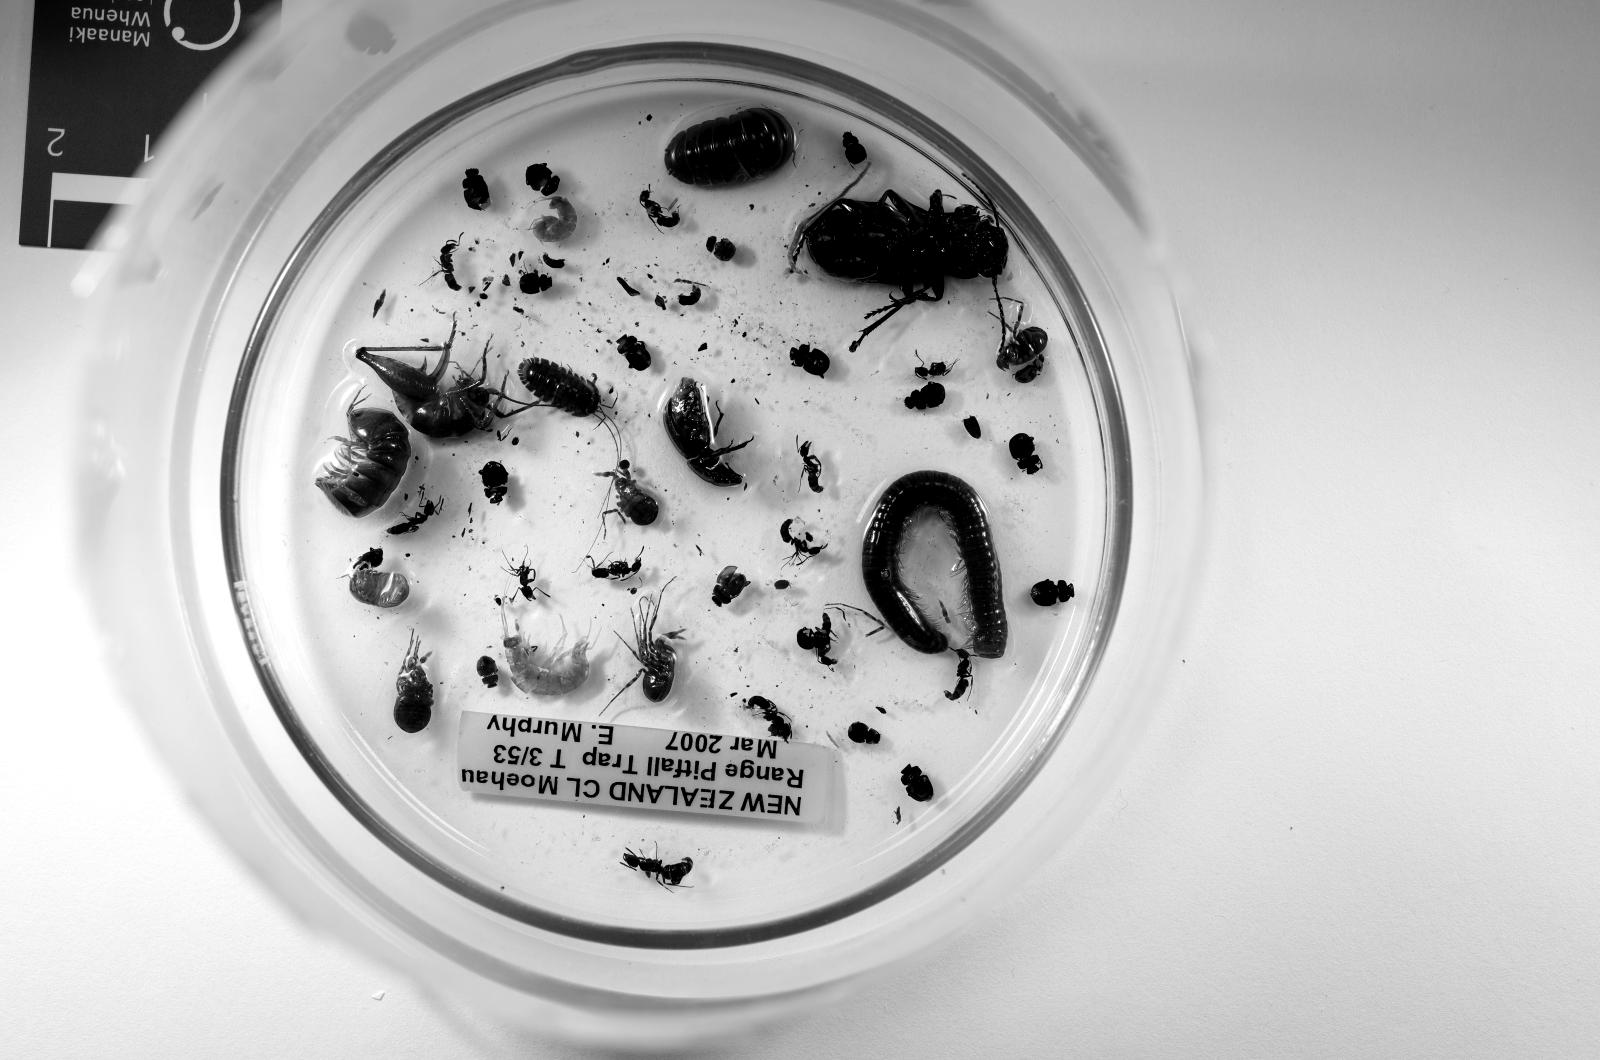amphipoda: (503, 612, 590, 696), (531, 195, 578, 243)
carabidae: (803, 189, 1010, 351), (662, 379, 750, 487)
coleoptera: (713, 565, 750, 606), (1010, 435, 1044, 476), (791, 344, 831, 379), (900, 764, 934, 801), (481, 463, 510, 506), (462, 168, 491, 211), (1031, 581, 1075, 608), (525, 161, 559, 195), (616, 336, 650, 369), (903, 382, 944, 409), (841, 130, 869, 164), (475, 655, 500, 690), (519, 273, 553, 295), (847, 724, 881, 745), (706, 237, 734, 260)
diplopoda: (862, 472, 1006, 658)
formicidae: (388, 487, 443, 537), (782, 518, 825, 565), (944, 649, 974, 702), (641, 189, 681, 227), (510, 550, 538, 600), (797, 438, 822, 493), (588, 556, 641, 581), (744, 696, 791, 720), (816, 615, 837, 665), (441, 239, 459, 292), (915, 360, 953, 379)
isopoda: (316, 403, 413, 518), (666, 109, 793, 187), (519, 357, 600, 416), (350, 568, 409, 608)
opiliones: (609, 587, 685, 705), (997, 295, 1047, 382), (394, 634, 434, 733), (600, 459, 660, 525)
orthoptera: (356, 319, 538, 441)
